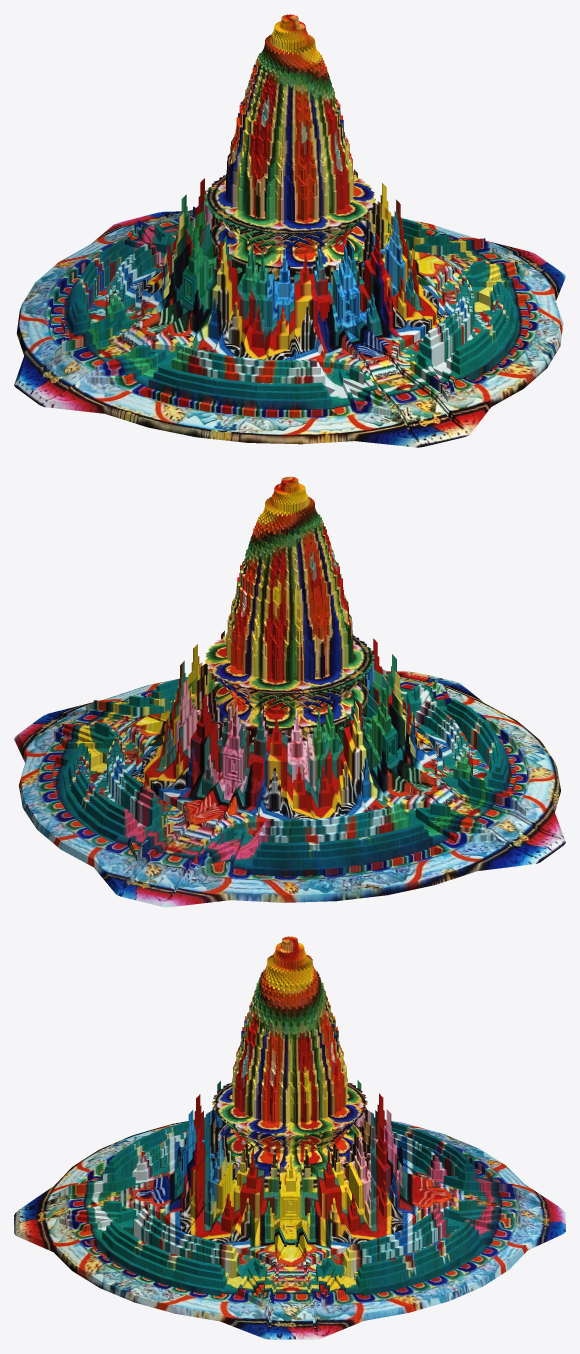
File: temple-kalachakra-mandala-smooth.fbx
3 renders of one model, top to bottom at view 1: azimuth 30°, elevation 25°; view 2: azimuth 150°, elevation 25°; view 3: azimuth 270°, elevation 25°, orthographic. The views are drawn at different scales.
Visible parts, largest first — view 1: Temple; view 2: Temple; view 3: Temple.
Boxes of the visible parts, x1,y1,x2,y2 form: Temple: (14, 14, 565, 447); Temple: (14, 476, 565, 907); Temple: (14, 936, 565, 1339).
Bounding box in the file's own units: 21345 × 12112 × 21341.
1 material, 1 textured.
